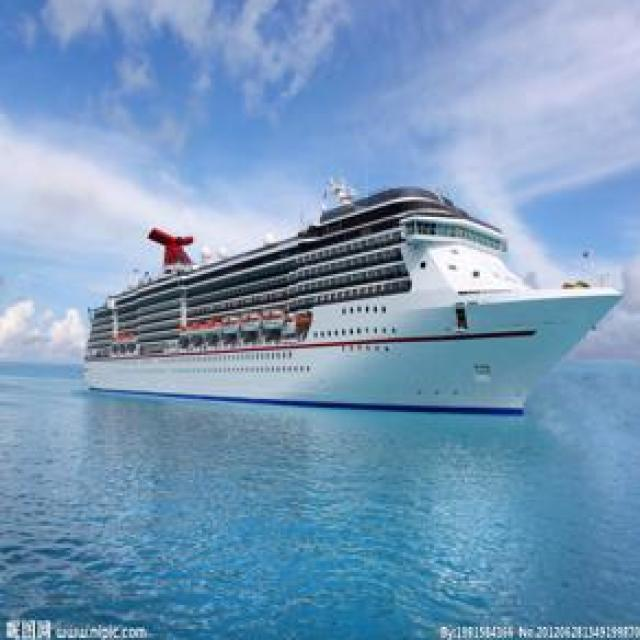passenger ship: (74, 171, 625, 416)
